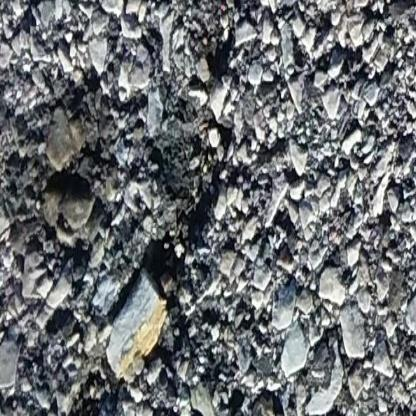Cracks: (88, 0, 258, 323)
